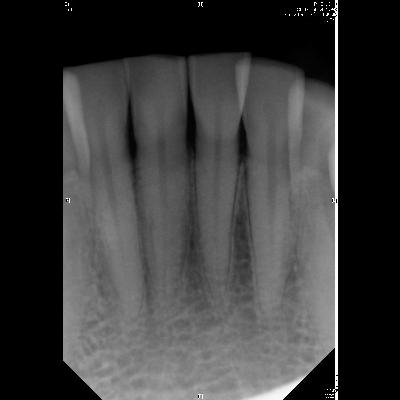tooth: (62, 56, 146, 324), (234, 56, 307, 318), (186, 49, 252, 307), (127, 52, 191, 310)
